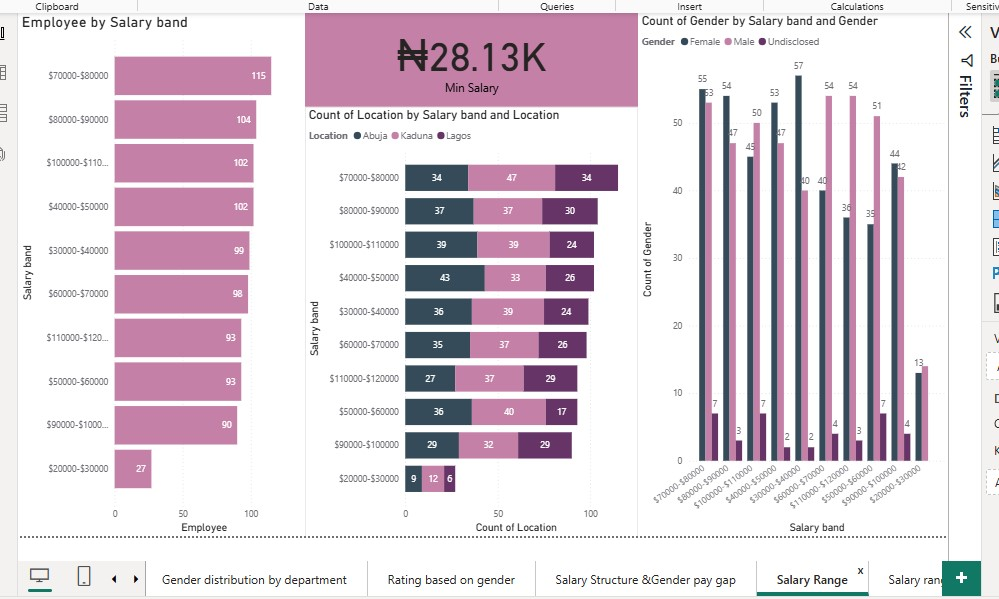

The dashboard page shown, as its layout file describes it:
{"tool":"powerbi","page":{"name":"Salary Range","canvas":[1280,720],"ordinal":4},"visuals":[{"type":"barChart","fields":{"Category":["moria Group emp-data.Salary band"],"Series":["moria Group emp-data.Location"],"Y":["moria Group emp-data.Location"]},"box":[394.8,129.3,458.6,591.3],"z":0},{"type":"card","fields":{"Values":["moria Group emp-data.Min Salary"]},"box":[394.8,0,458.6,129.3],"z":1000},{"type":"clusteredColumnChart","fields":{"Series":["moria Group emp-data.Gender"],"Y":["moria Group emp-data.Gender"],"Category":["moria Group emp-data.Salary band"]},"box":[853.3,0,426.7,720.6],"z":2000},{"type":"clusteredBarChart","title":"Employee by Salary band","fields":{"Category":["moria Group emp-data.Salary band"],"Y":["moria Group emp-data.Name"]},"box":[0,0,394.8,720.6],"z":3000}]}

Visuals, with their boxes on the page's 1280x720 design canvas (x1, y1, x2, y2). These are canvas units, not pixel positions in the 999x599 screenshot, which may show the page scaled, cropped or inside an application window:
barChart - moria Group emp-data.Salary band x moria Group emp-data.Location: crop(395, 129, 853, 721)
card - moria Group emp-data.Min Salary: crop(395, 0, 853, 129)
clusteredColumnChart - moria Group emp-data.Gender x moria Group emp-data.Gender: crop(853, 0, 1280, 721)
"Employee by Salary band" clusteredBarChart: crop(0, 0, 395, 721)
